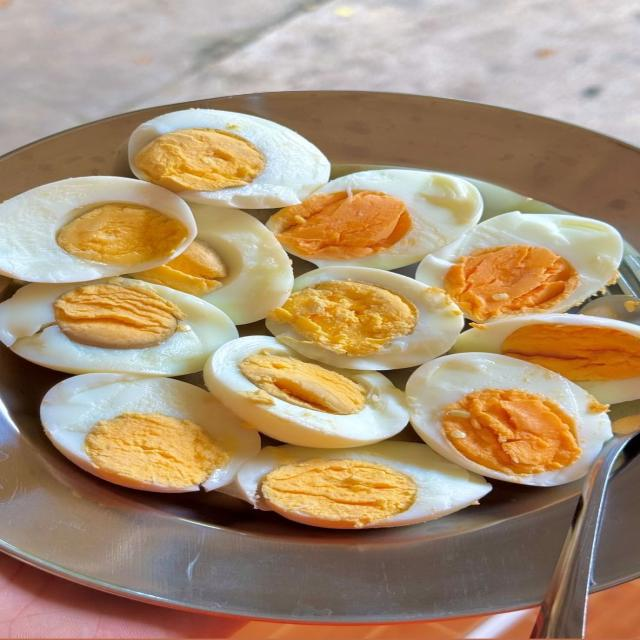eggs: (0, 115, 640, 546)
